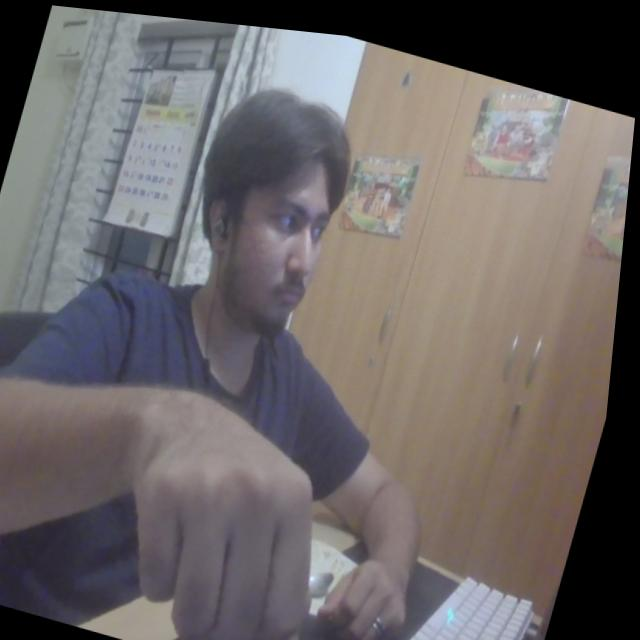yes: (107, 420, 367, 640)
